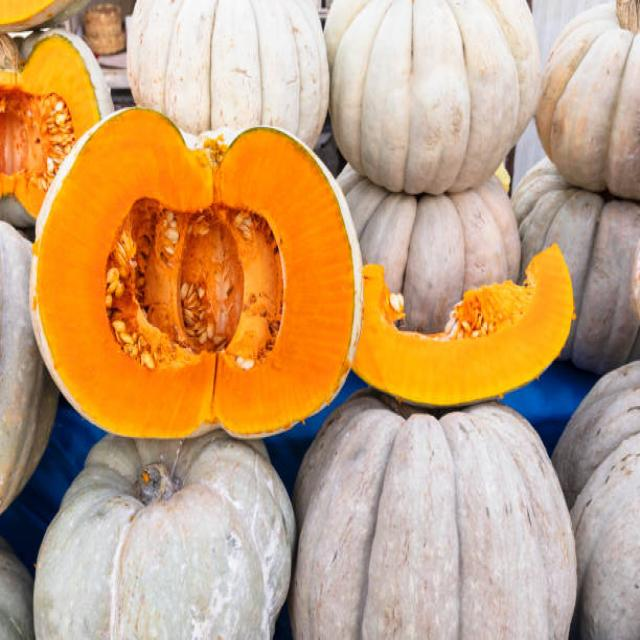pumpkin: (38, 113, 358, 431), (284, 404, 580, 640), (44, 432, 283, 640), (351, 246, 579, 406)
